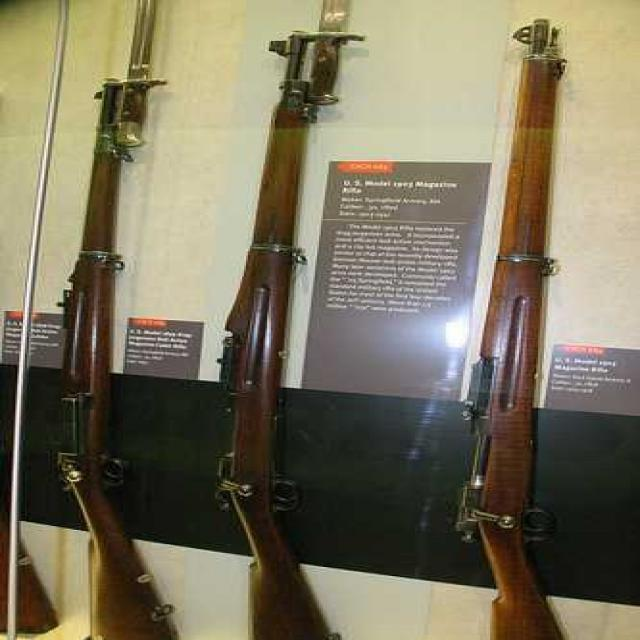weapon: (223, 0, 396, 640), (481, 0, 604, 640), (46, 68, 171, 640)
